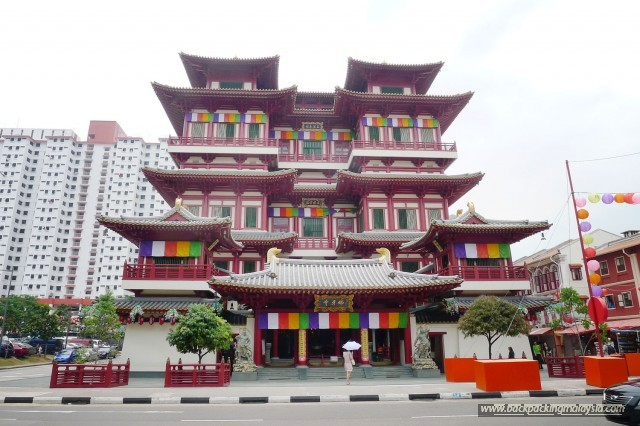Buddhist Temple: (124, 41, 494, 392)
